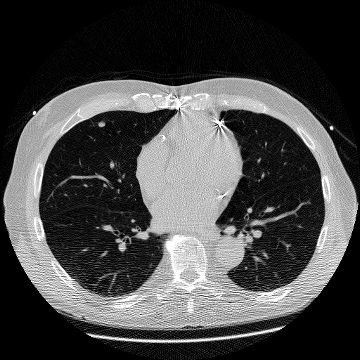nodule: (98, 121, 104, 127)
